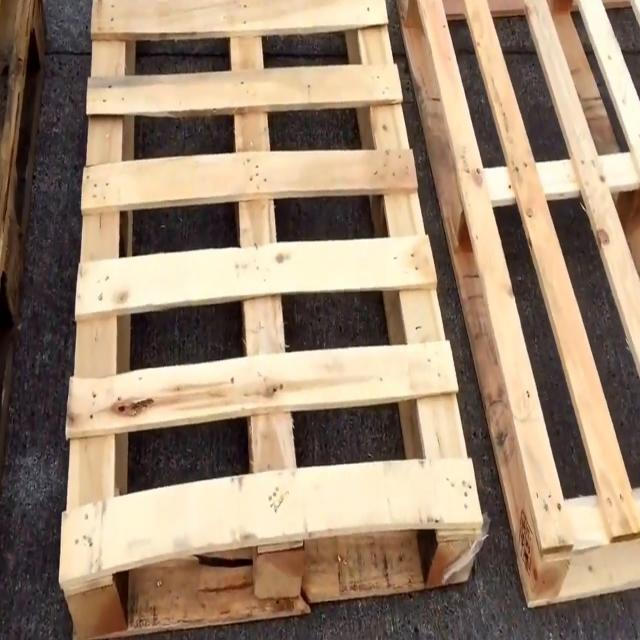Palette: (59, 0, 484, 640), (391, 0, 640, 640), (0, 0, 48, 472)
